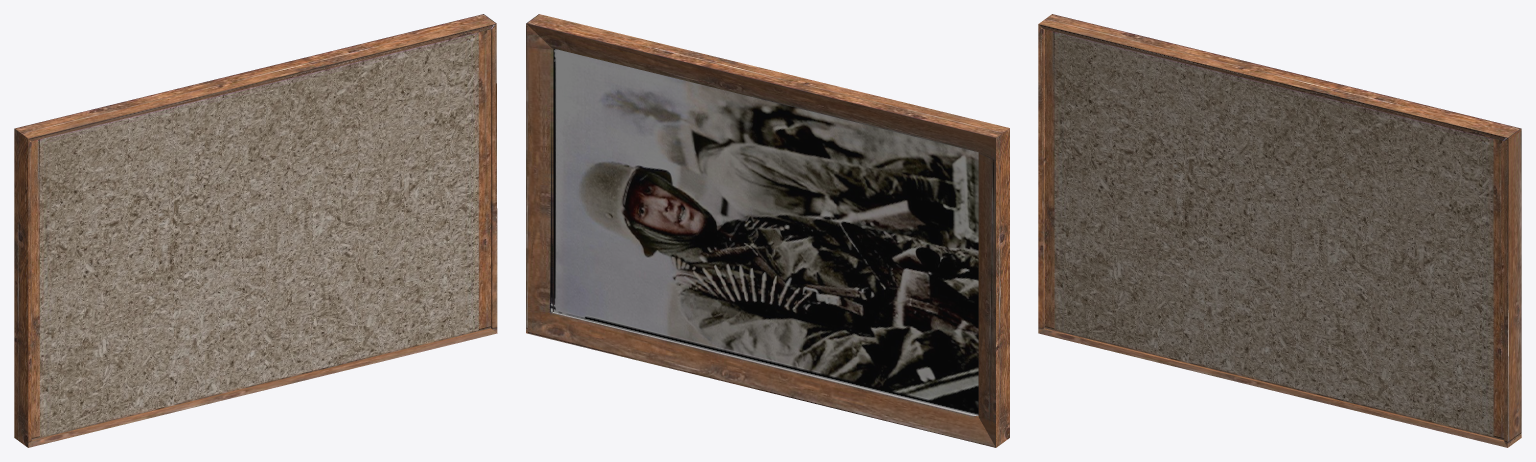
3 views of the same model, side by side, from view 1: azimuth 30°, elevation 25°; view 2: azimuth 150°, elevation 25°; view 3: azimuth 330°, elevation 25° (orthographic).
Visible parts, largest first — view 1: Box001; view 2: Box001; view 3: Box001.
Part boxes in pixels (<box>): Box001: <box>14,14,497,447</box>; Box001: <box>526,14,1009,447</box>; Box001: <box>1038,14,1521,447</box>.
Size of the model in its own units: 15.03 by 9.47 by 0.7599.
Materials: 1 (1 with a texture image).
